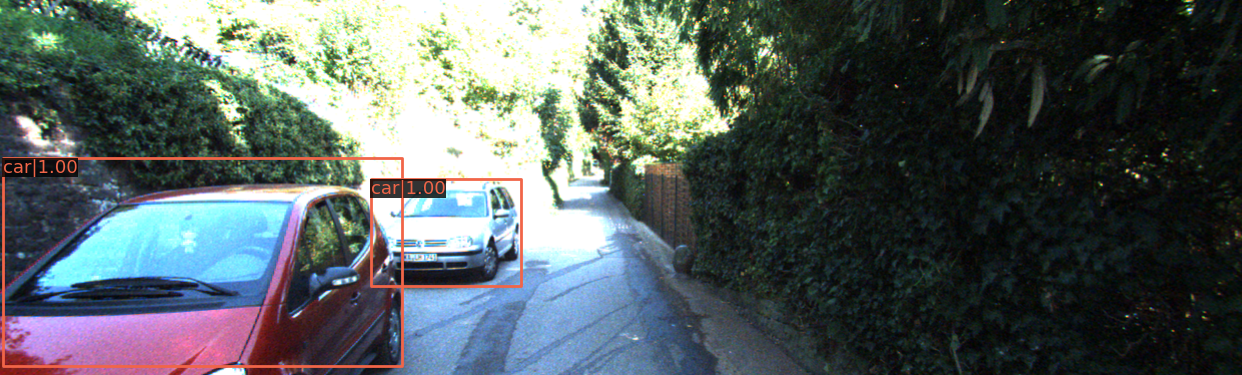car: (1, 174, 410, 375), (370, 181, 522, 294)
